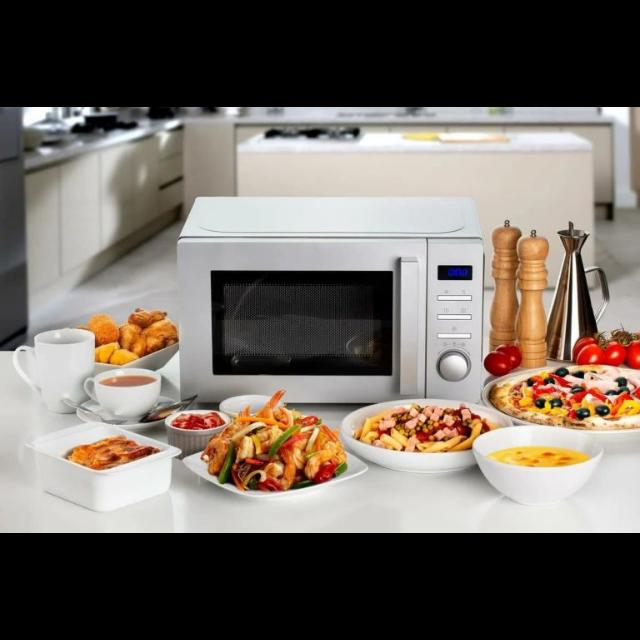Microwave: (172, 192, 484, 408)
